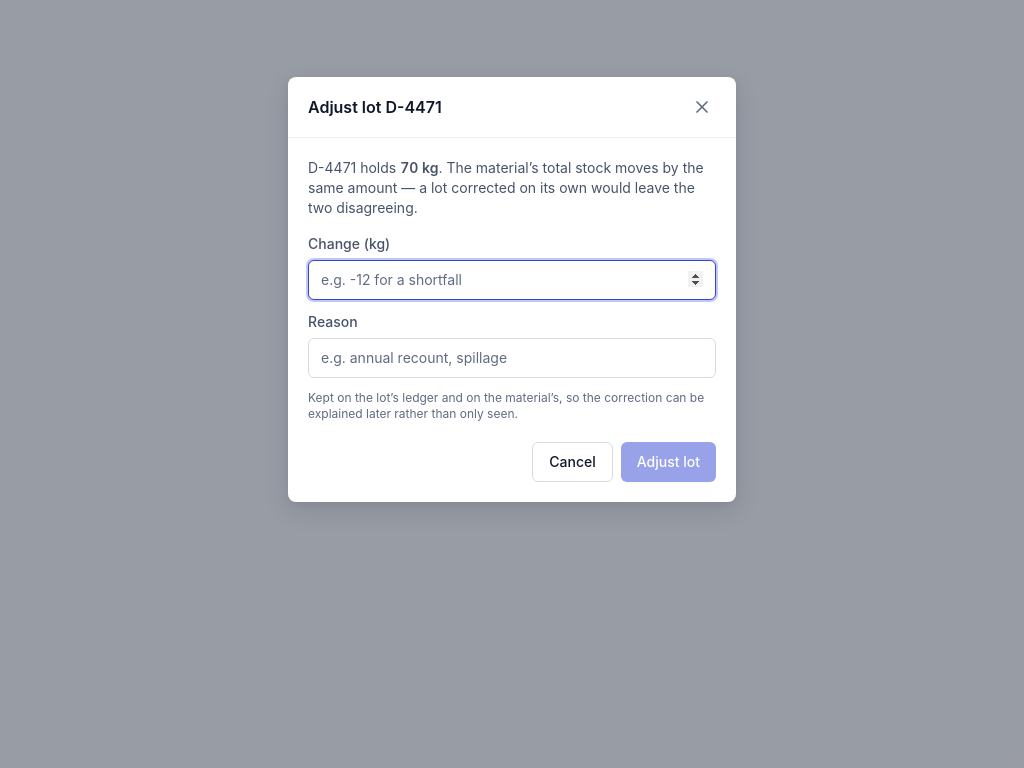
Test case: adjusting a lot › warns that a lot taken to zero is exhausted
Type "-70" into the number field named "Adjustment in kg" at (512,280), box [308,260,716,300]
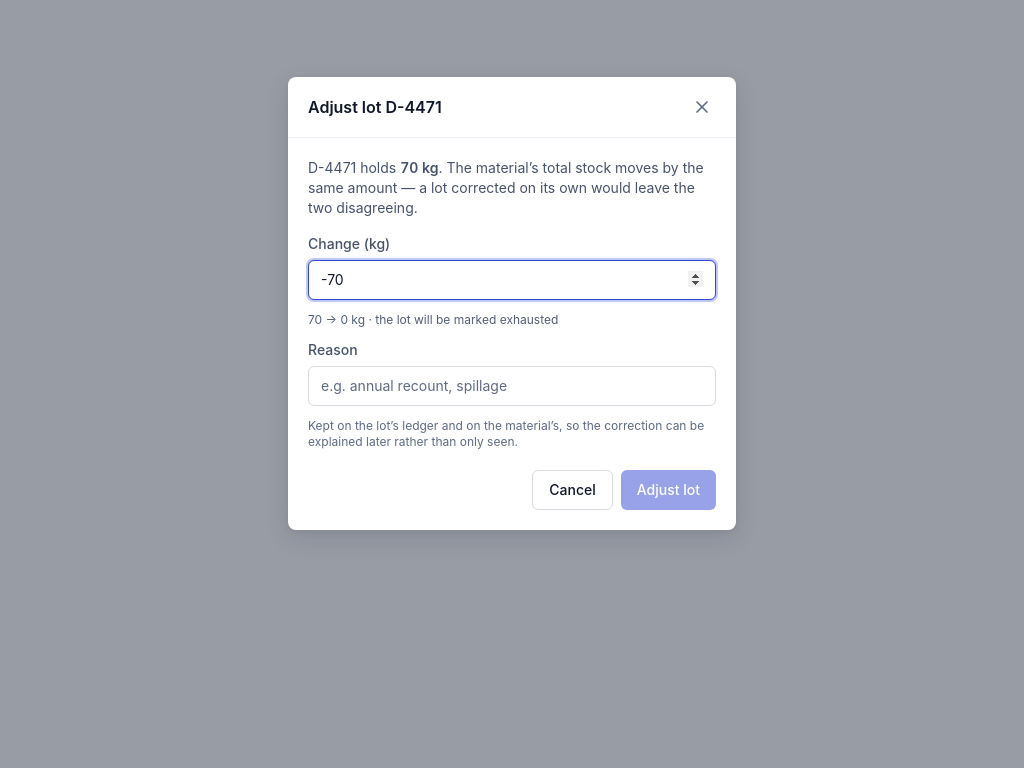
Result: the text "70 → 0 kg · the lot will be marked exhausted" is shown at [308,312,558,327]
